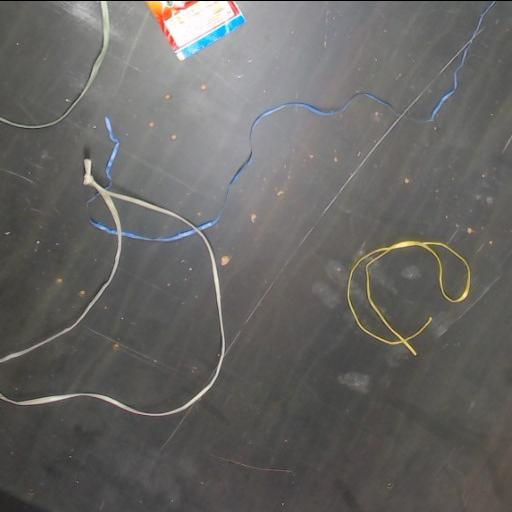conveyor belt: (0, 1, 511, 512), (0, 236, 217, 409)
packet: (145, 1, 245, 59)
thread: (0, 153, 226, 416), (330, 1, 496, 203), (224, 93, 392, 202), (346, 240, 470, 355), (0, 1, 108, 128)
